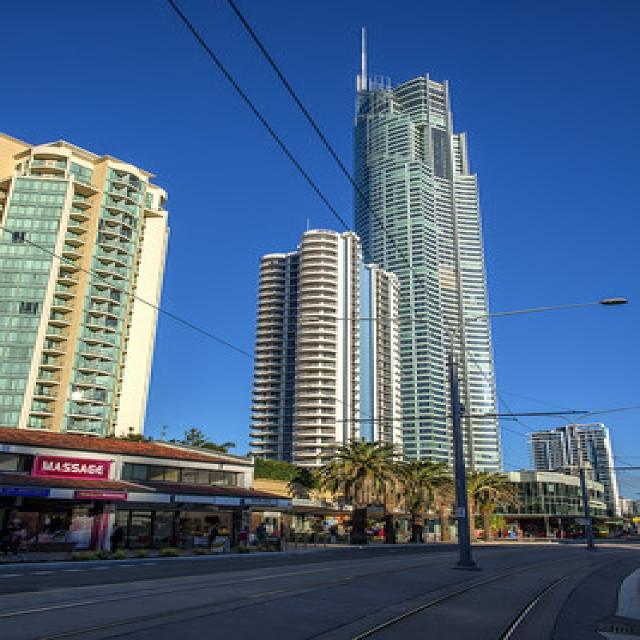Normal_building: (348, 64, 513, 518), (240, 225, 410, 510), (531, 420, 624, 546)
